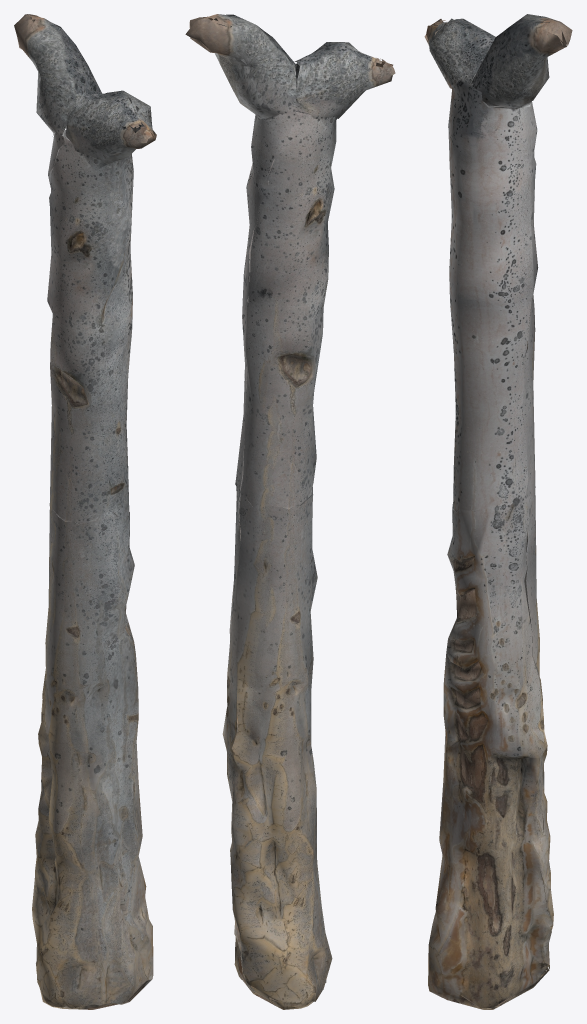
File: dead_quiver_trunk.glb
3 renders of one model, left to right at view 1: azimuth 90°, elevation 25°; view 2: azimuth 150°, elevation 25°; view 3: azimuth 270°, elevation 25°, orthographic. The views are drawn at different scales.
Visible parts, largest first — view 1: dead_quiver_trunk; view 2: dead_quiver_trunk; view 3: dead_quiver_trunk.
Part boxes in pixels (x1=…): dead_quiver_trunk: x1=14, y1=14, x2=156, y2=1009; dead_quiver_trunk: x1=185, y1=14, x2=395, y2=1009; dead_quiver_trunk: x1=424, y1=14, x2=572, y2=1009.
Bounding box in the file's own units: 0.3061 × 1.99 × 0.2685.
1 material, 1 textured.
